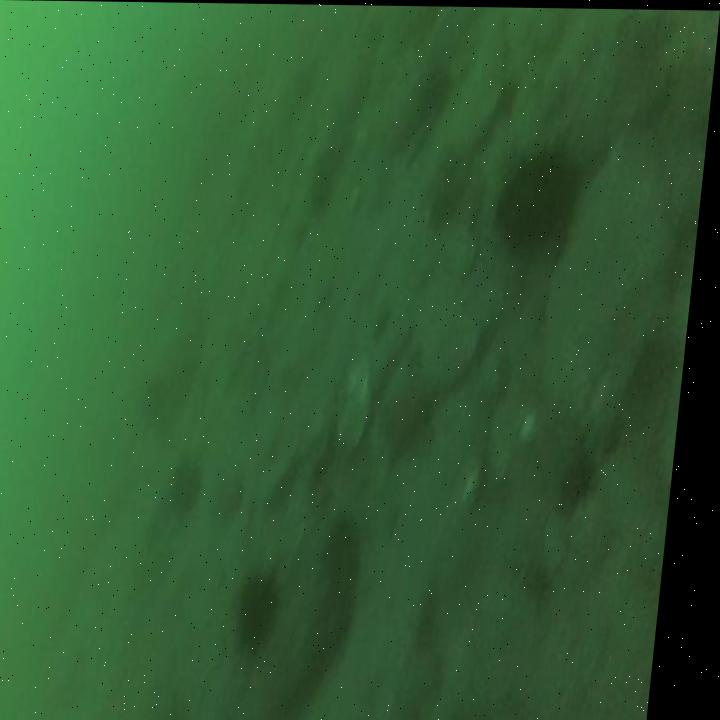echinus: (499, 150, 578, 251), (243, 570, 291, 649), (328, 513, 376, 590), (309, 146, 344, 209), (414, 69, 453, 119), (568, 452, 602, 509), (181, 459, 212, 513)
